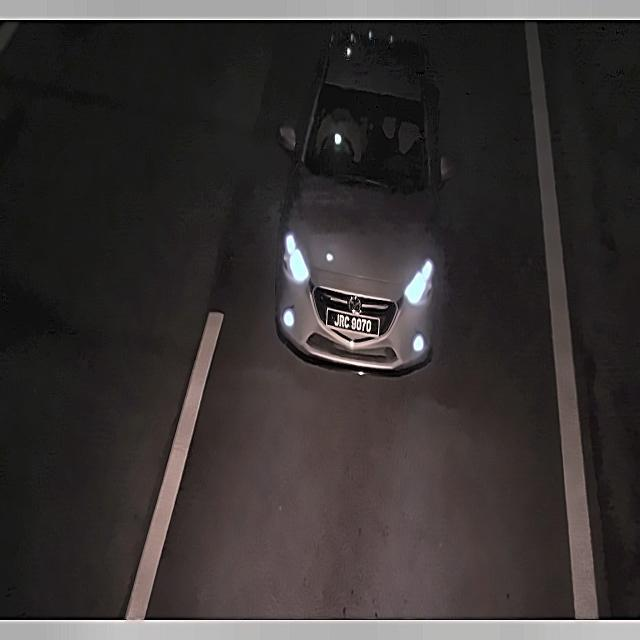car: (326, 306, 381, 342)
